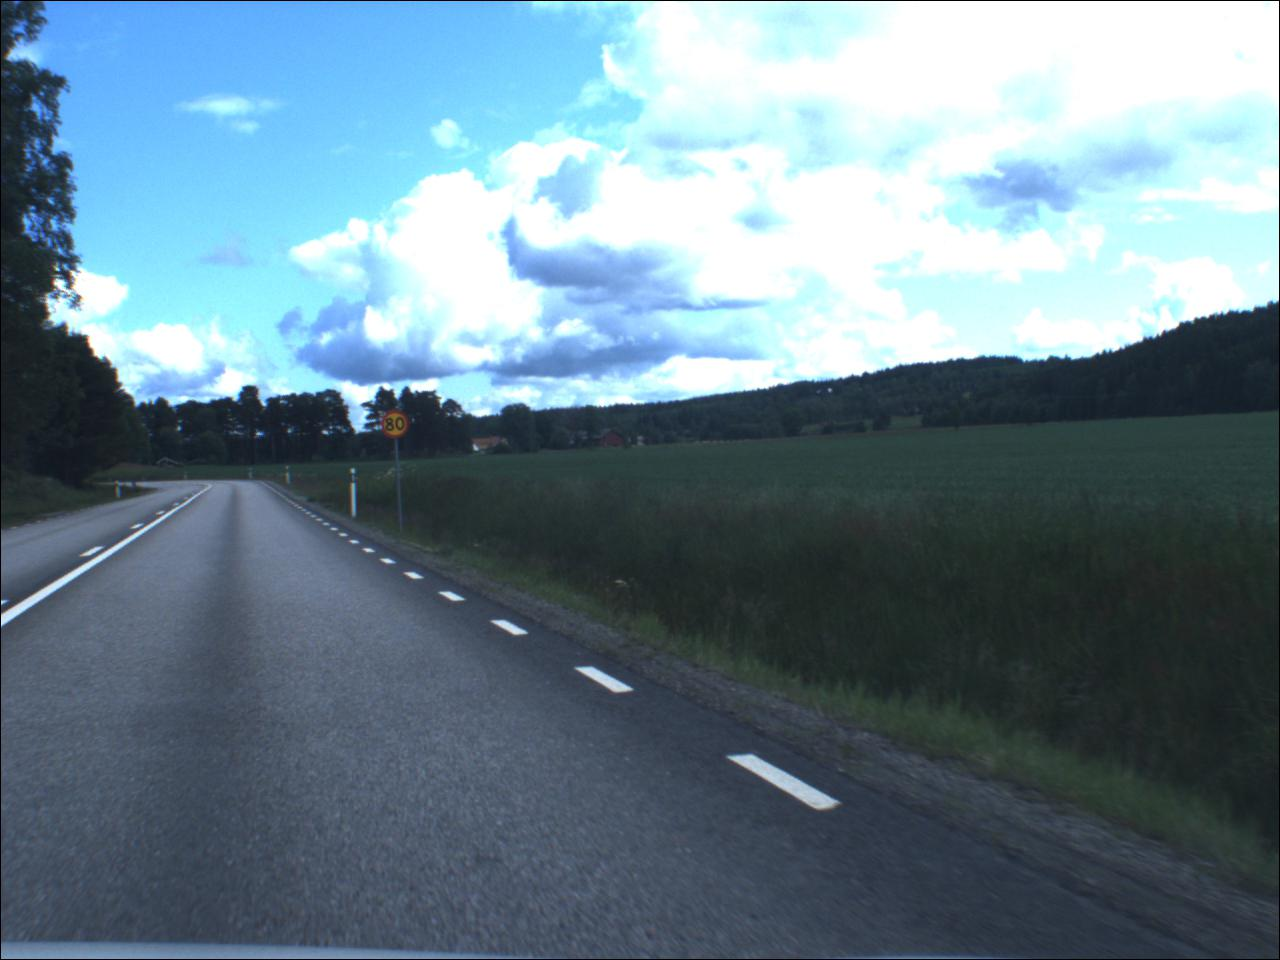80_SIGN: (383, 411, 412, 441)
